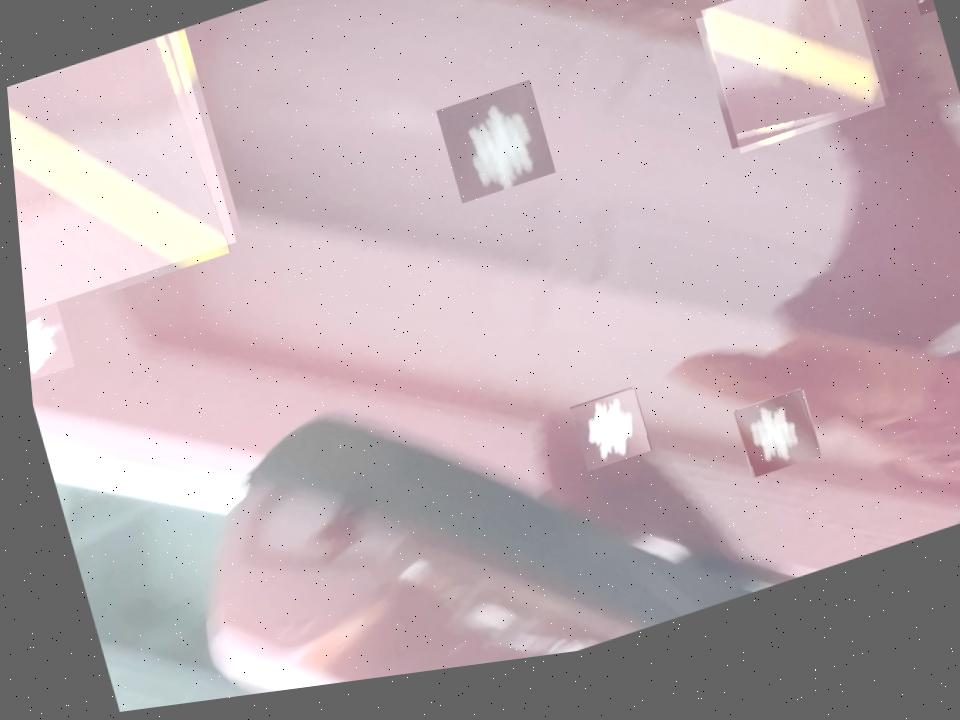dent: (431, 91, 552, 217), (724, 408, 812, 498), (560, 401, 643, 487), (18, 279, 68, 381), (911, 8, 934, 41)
scratch: (3, 31, 234, 313), (695, 0, 882, 176)
